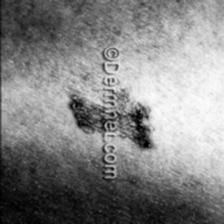Potentially Malignant Skin Tumors: (78, 102, 156, 154)
